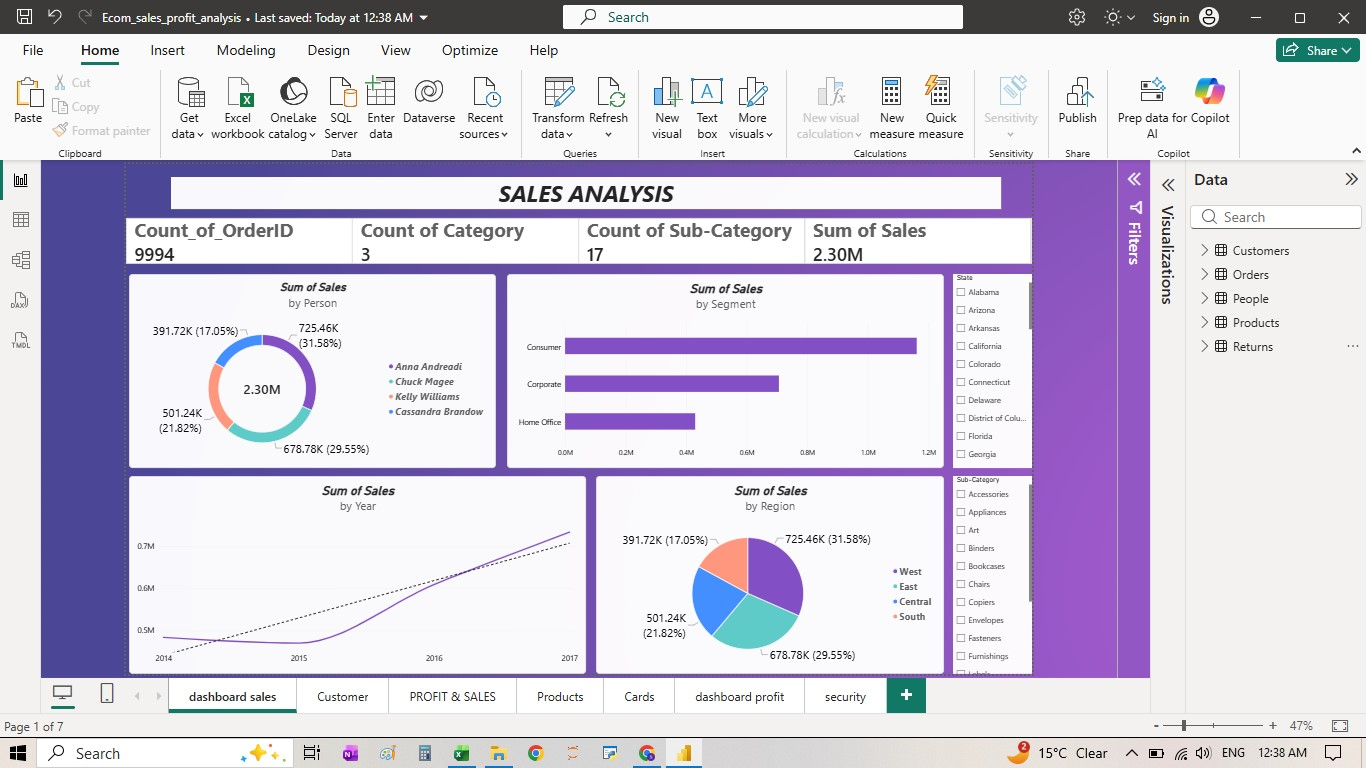

The page's visual inventory and layout, read from the dashboard file:
{"tool":"powerbi","page":{"name":"dashboard sales","canvas":[1920,1080],"ordinal":0},"visuals":[{"type":"donutChart","fields":{"Category":["People.Person"],"Y":["Sum(Orders.Sales)"]},"box":[6.4,232.9,777.2,410.8],"z":0},{"type":"textbox","box":[95.3,27.5,1757.6,67.8],"z":1000},{"type":"pieChart","fields":{"Category":["Orders.Region"],"Y":["Sum(Orders.Sales)"]},"box":[995.3,660.7,736.9,419.3],"z":2000},{"type":"cardVisual","fields":{"Data":["Customers.Count_of_OrderID","Count(Products.Category)","Count(Products.Sub-Category)","Sum(Orders.Sales)"]},"box":[0,114.4,1920.7,97.4],"z":2001},{"type":"lineChart","fields":{"Category":["Orders.Order Date.Variation.Date Hierarchy.Year"],"Y":["Sum(Orders.Sales)"]},"box":[6.4,660.7,967.8,419.3],"z":2002},{"type":"barChart","fields":{"Category":["Customers.Segment"],"Y":["Sum(Orders.Sales)"]},"box":[806.8,232.9,925.4,410.8],"z":2003},{"type":"slicer","fields":{"Values":["Customers.State"]},"box":[1751.3,232.9,169.4,410.8],"z":2004},{"type":"slicer","fields":{"Values":["Products.Sub-Category"]},"box":[1751,661,169,419],"z":2005}]}

Visuals, with their boxes on the page's 1920x1080 design canvas (x1, y1, x2, y2). These are canvas units, not pixel positions in the 1366x768 screenshot, which may show the page scaled, cropped or inside an application window:
donutChart - People.Person x Sum(Orders.Sales): detection(6, 233, 784, 644)
textbox: detection(95, 28, 1853, 95)
pieChart - Orders.Region x Sum(Orders.Sales): detection(995, 661, 1732, 1080)
cardVisual - Customers.Count_of_OrderID x Count(Products.Category): detection(0, 114, 1921, 212)
lineChart - Orders.Order Date.Variation.Date Hierarchy.Year x Sum(Orders.Sales): detection(6, 661, 974, 1080)
barChart - Customers.Segment x Sum(Orders.Sales): detection(807, 233, 1732, 644)
slicer - Customers.State: detection(1751, 233, 1921, 644)
slicer - Products.Sub-Category: detection(1751, 661, 1920, 1080)
